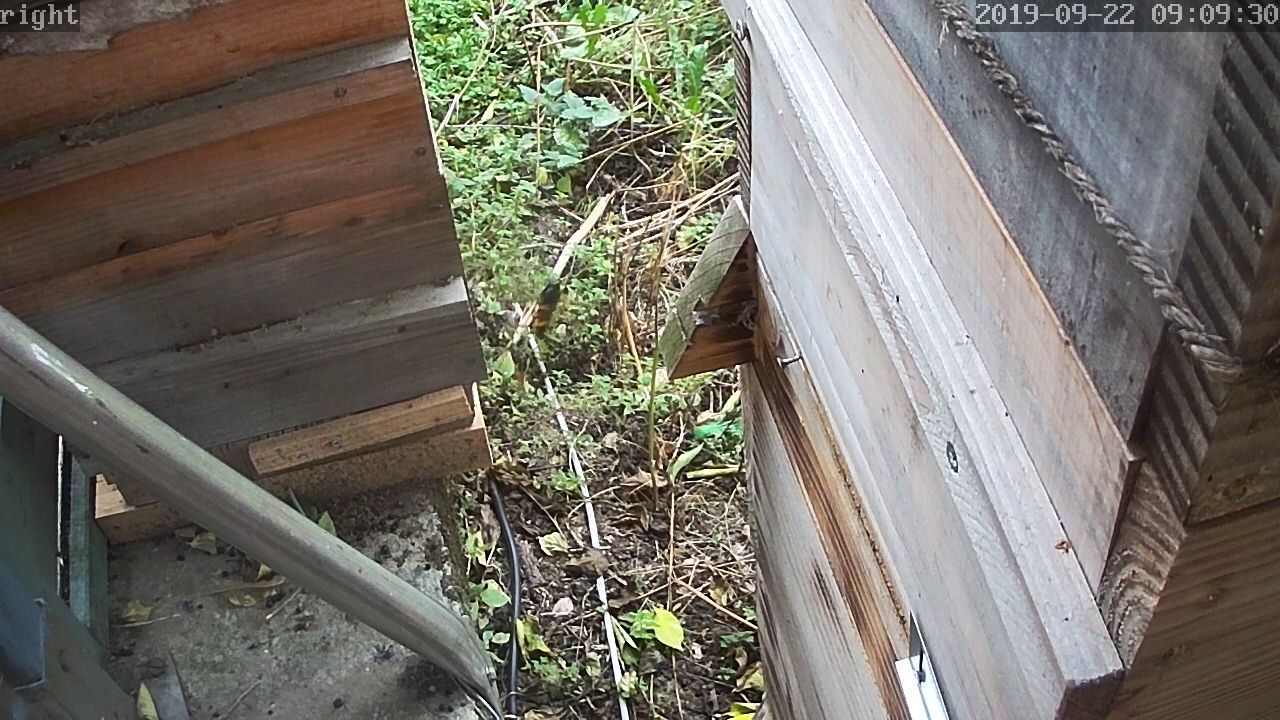hornet: (524, 279, 563, 344)
